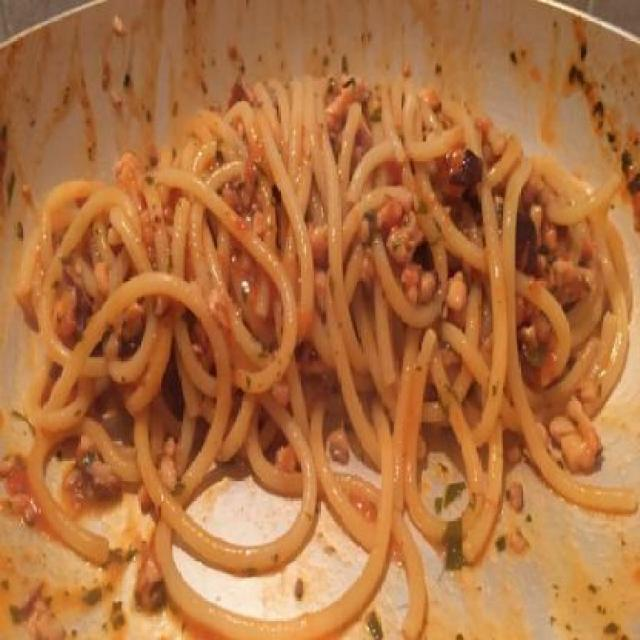Pasta al ragu: (23, 69, 620, 551)
